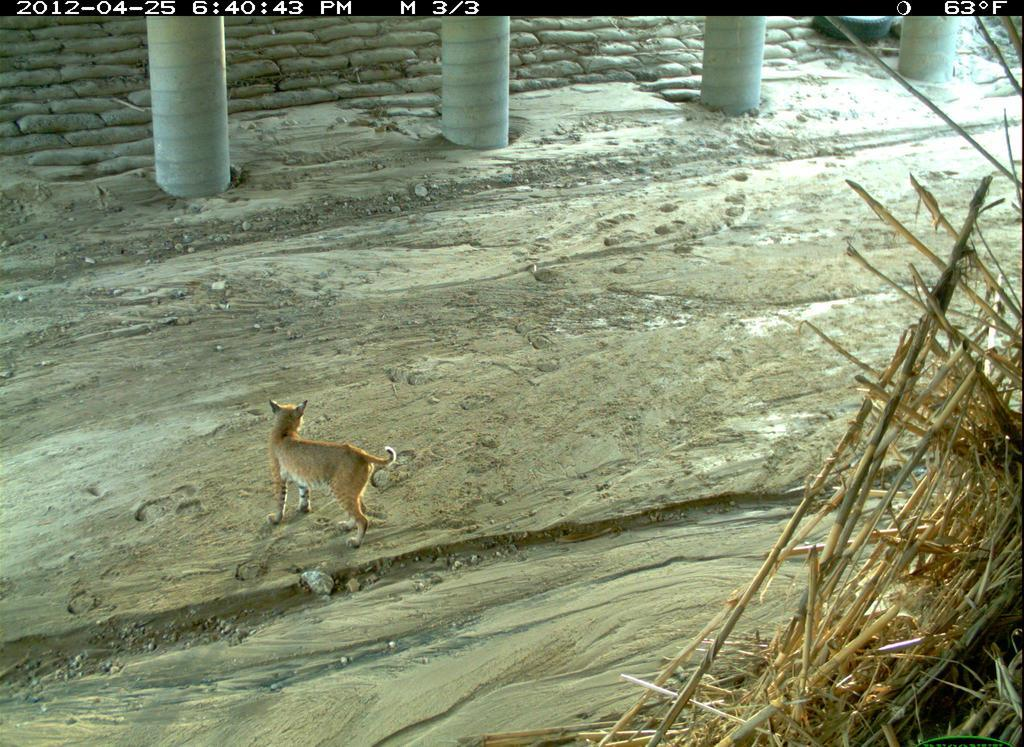bobcat: (266, 396, 396, 551)
